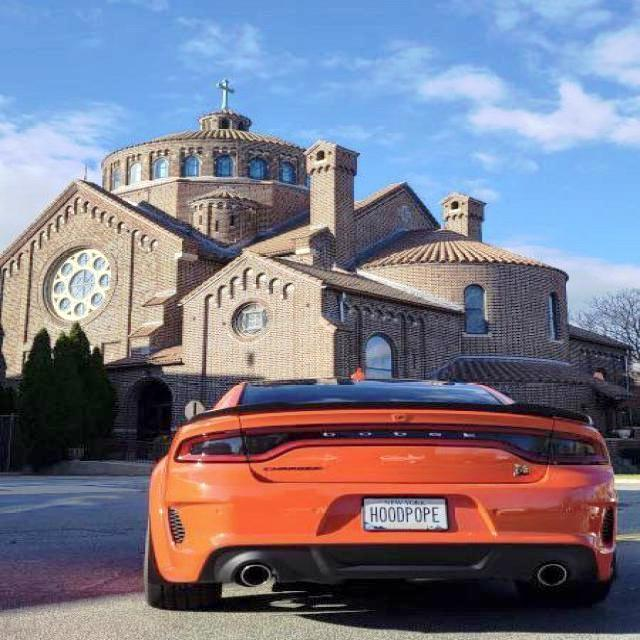license_plate: (363, 500, 448, 532)
